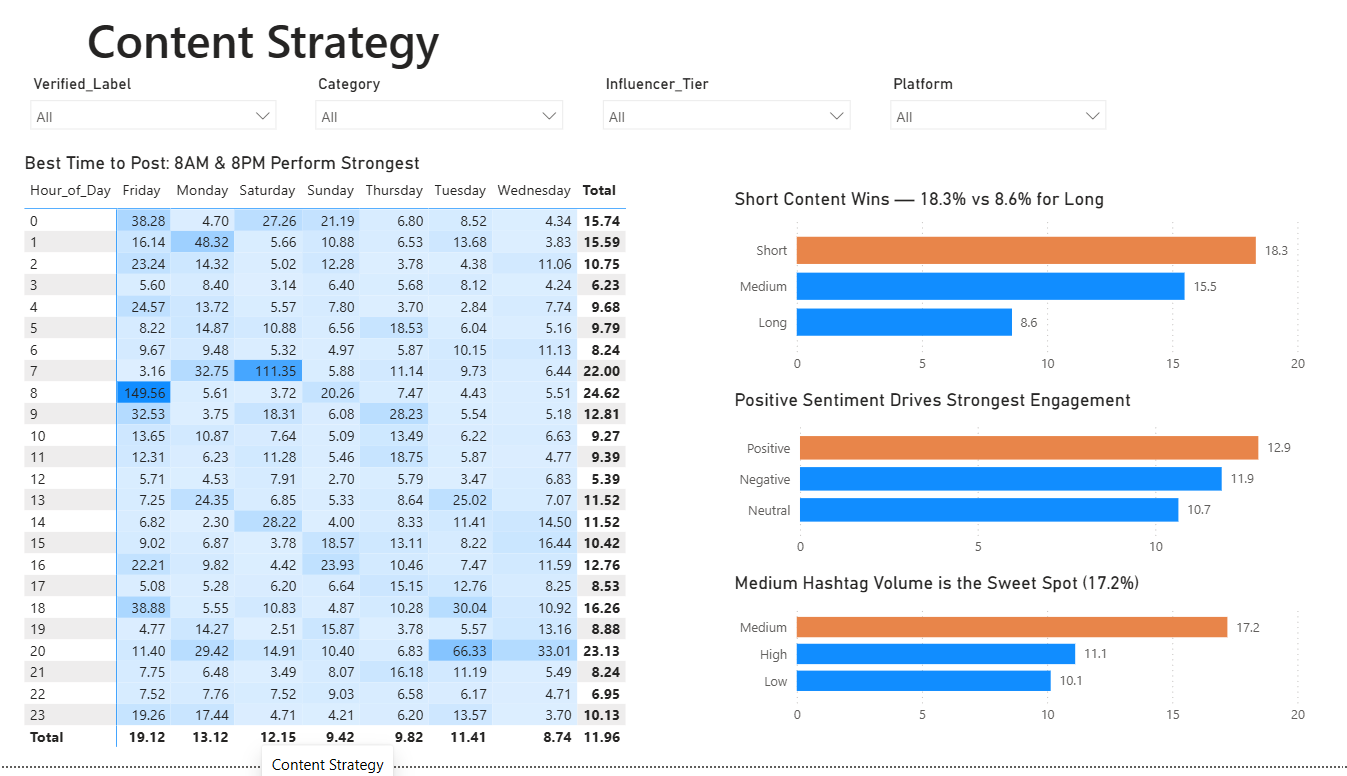

This screenshot's page, from the dashboard's own definition file:
{"tool":"powerbi","page":{"name":"Content Strategy","canvas":[1280,720],"ordinal":1},"visuals":[{"type":"pivotTable","title":"Best Time to Post: 8AM & 8PM Perform Strongest","fields":{"Rows":["posts.Hour_of_Day"],"Columns":["posts.Day_of_Week"],"Values":["posts.Avg Engagement Rate"]},"box":[43,147.7,596.5,572.1],"z":0},{"type":"barChart","title":"Medium Hashtag Volume is the Sweet Spot (17.2%)","fields":{"Category":["posts.Hashtag_Bucket"],"Y":["posts.Avg Engagement Rate"]},"box":[703.5,538.4,540.7,172.1],"z":1000},{"type":"barChart","title":"Short Content Wins — 18.3% vs 8.6% for Long","fields":{"Category":["posts.Content_Bucket"],"Y":["posts.Avg Engagement Rate"]},"box":[703.5,181.6,540.7,181.4],"z":2000},{"type":"barChart","title":"Positive Sentiment Drives Strongest Engagement","fields":{"Category":["posts.Sentiment"],"Y":["posts.Avg Engagement Rate"]},"box":[703.5,368.3,540.7,165.1],"z":3000},{"type":"textbox","box":[43,0,373.3,61.6],"z":4000},{"type":"slicer","fields":{"Values":["posts.Platform"]},"box":[842.9,70.4,221.2,64],"z":5000},{"type":"slicer","fields":{"Values":["posts.Category"]},"box":[308.6,70.4,250.5,64],"z":6000},{"type":"slicer","fields":{"Values":["posts.Influencer_Tier"]},"box":[575.7,70.4,250.5,64],"z":7000},{"type":"slicer","fields":{"Values":["posts.Verified_Label"]},"box":[42.8,70.4,249.1,64],"z":8000}]}

Visuals, with their boxes in screenshot pixels (x1, y1, x2, y2), scaled from the page's 1280x720 canvas onto the 1347x776 screenshot:
"Best Time to Post: 8AM & 8PM Perform Strongest" pivotTable: left=45, top=159, right=673, bottom=775
"Medium Hashtag Volume is the Sweet Spot (17.2%)" barChart: left=740, top=580, right=1309, bottom=766
"Short Content Wins — 18.3% vs 8.6% for Long" barChart: left=740, top=196, right=1309, bottom=391
"Positive Sentiment Drives Strongest Engagement" barChart: left=740, top=397, right=1309, bottom=575
textbox: left=45, top=0, right=438, bottom=66
slicer - posts.Platform: left=887, top=76, right=1120, bottom=145
slicer - posts.Category: left=325, top=76, right=588, bottom=145
slicer - posts.Influencer_Tier: left=606, top=76, right=869, bottom=145
slicer - posts.Verified_Label: left=45, top=76, right=307, bottom=145
